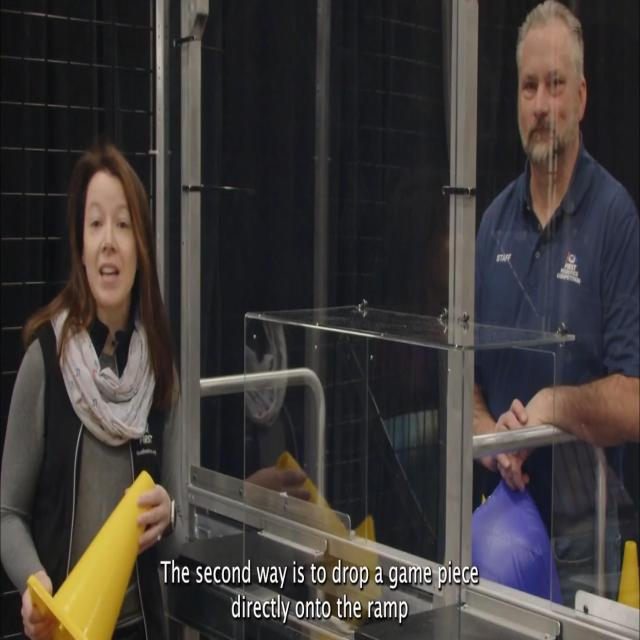frc_cone: (24, 467, 158, 640), (618, 535, 640, 611)
frc_cube: (472, 474, 562, 608)
